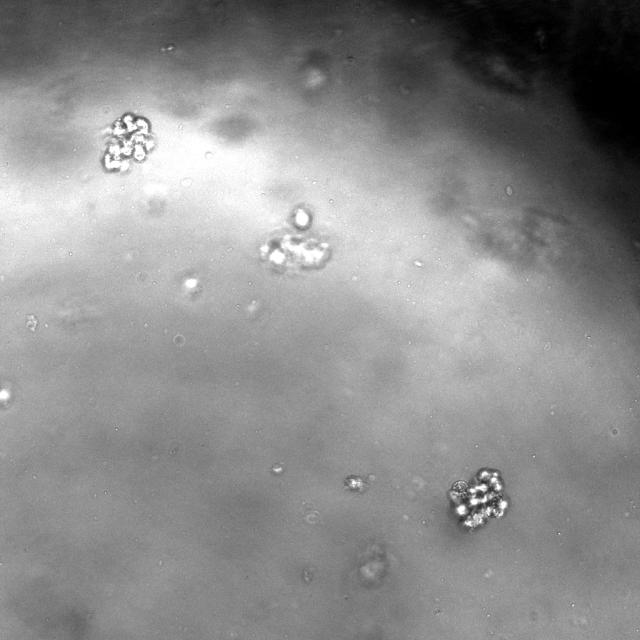organoid: (259, 204, 332, 274), (448, 468, 508, 530), (101, 112, 156, 172)
